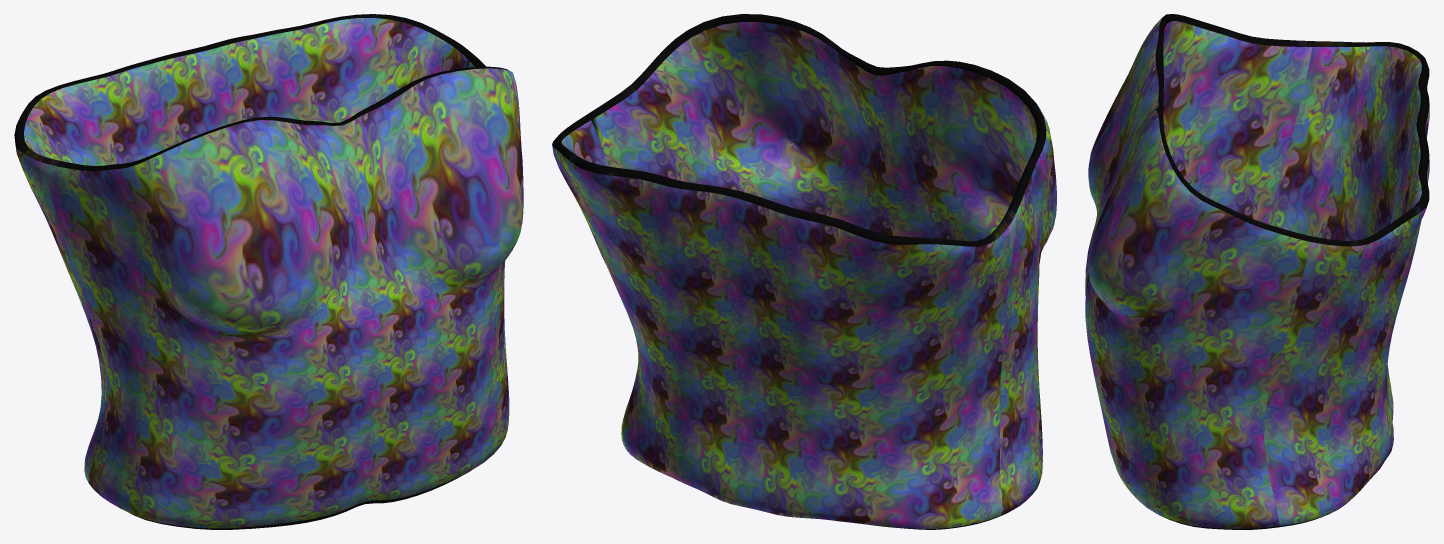
Rendered from tubetop.glb.
3 renders of one model, left to right at view 1: azimuth 30°, elevation 25°; view 2: azimuth 150°, elevation 25°; view 3: azimuth 270°, elevation 25°, orthographic. The views are drawn at different scales.
Visible parts, largest first — view 1: tubetop; view 2: tubetop; view 3: tubetop.
Part boxes in pixels (bbox=[...]): tubetop: bbox=[14, 14, 523, 529]; tubetop: bbox=[552, 14, 1056, 529]; tubetop: bbox=[1085, 14, 1429, 529].
Size of the model in its own units: 0.3003 by 0.2594 by 0.2164.
1 material, 1 textured.
